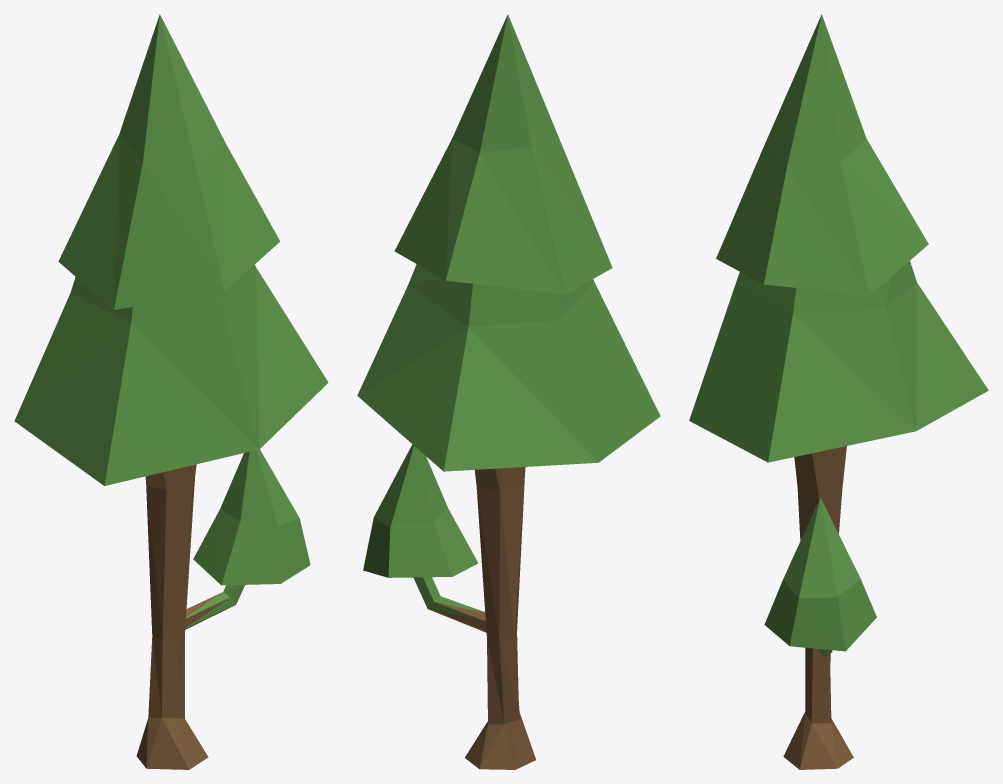
Rendered from tree3d-033.glb.
The picture shows the model from 3 angles, left to right: view 1: azimuth 30°, elevation 25°; view 2: azimuth 150°, elevation 25°; view 3: azimuth 270°, elevation 25°; orthographic projection.
Visible parts, largest first — view 1: tree3d-033; view 2: tree3d-033; view 3: tree3d-033.
Part boxes in pixels (<box>): tree3d-033: <box>14,14,328,769</box>; tree3d-033: <box>357,14,660,769</box>; tree3d-033: <box>689,14,988,769</box>.
Bounding box in the file's own units: 0.3652 × 1 × 0.3683.
